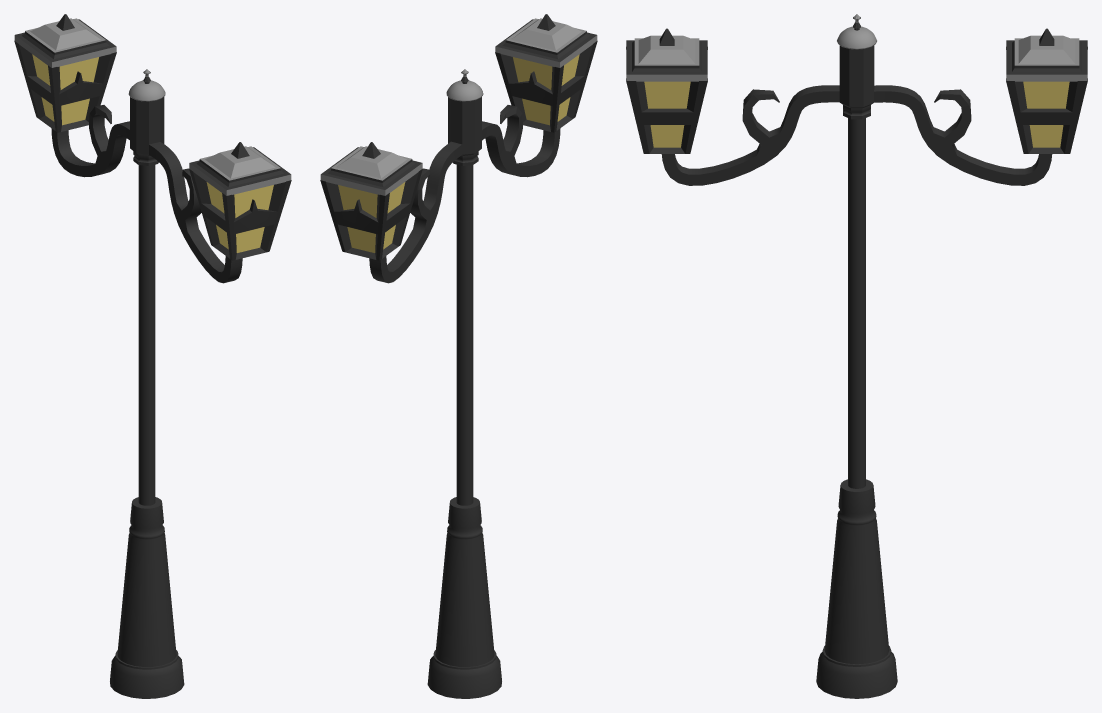
Rendered from light.fbx.
3 views of the same model, side by side, from view 1: azimuth 30°, elevation 25°; view 2: azimuth 150°, elevation 25°; view 3: azimuth 270°, elevation 25° (orthographic). The views are drawn at different scales.
Visible parts, largest first — view 1: pCylinder4; view 2: pCylinder4; view 3: pCylinder4.
Boxes of the visible parts, x1,y1,x2,y2 form: pCylinder4: (14,14,291,698); pCylinder4: (320,14,597,698); pCylinder4: (626,14,1087,698).
Bounding box in the file's own units: 2.53 × 20.94 × 13.12.
